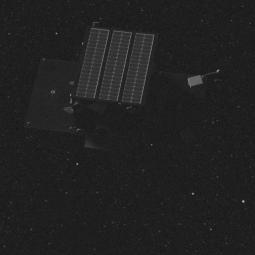proba_2: (34, 34, 218, 157)
